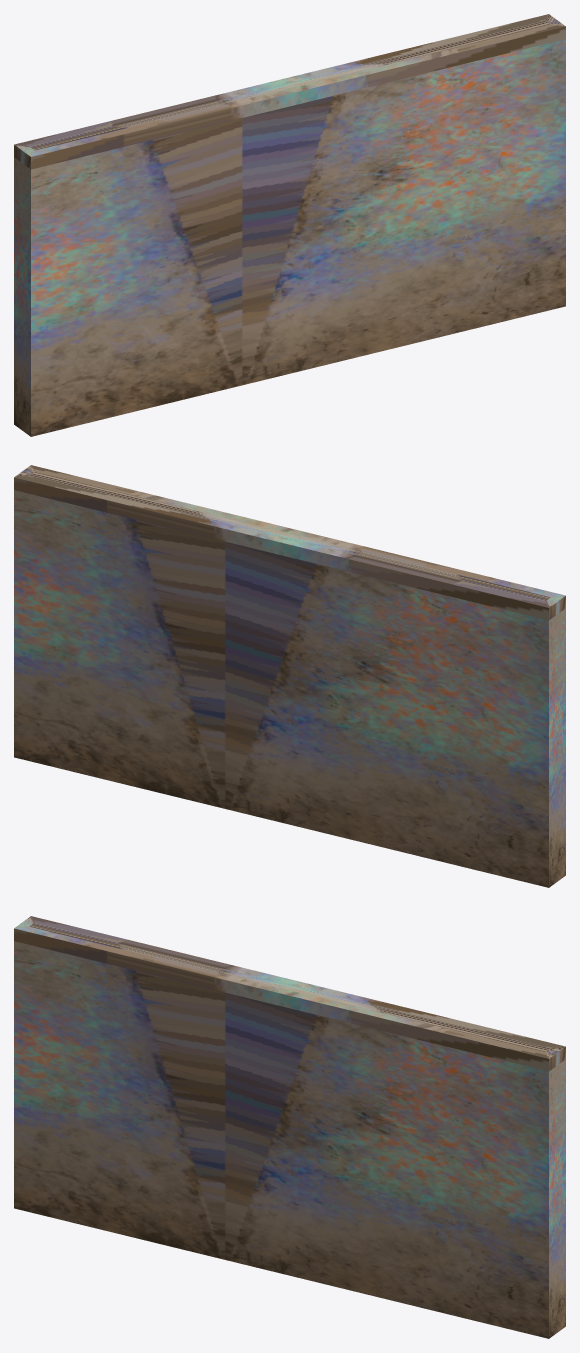
File: SbS_LDK_Wall_A_01.fbx
3 renders of one model, top to bottom at view 1: azimuth 30°, elevation 25°; view 2: azimuth 150°, elevation 25°; view 3: azimuth 330°, elevation 25°, orthographic.
Parts seen in each view (by area): view 1: SbS_Wall_A_01; view 2: SbS_Wall_A_01; view 3: SbS_Wall_A_01.
Boxes of the visible parts, x1,y1,x2,y2 form: SbS_Wall_A_01: (14,14,565,436); SbS_Wall_A_01: (14,465,565,887); SbS_Wall_A_01: (14,916,565,1338).
Size of the model in its own units: 1000 by 500 by 55.
